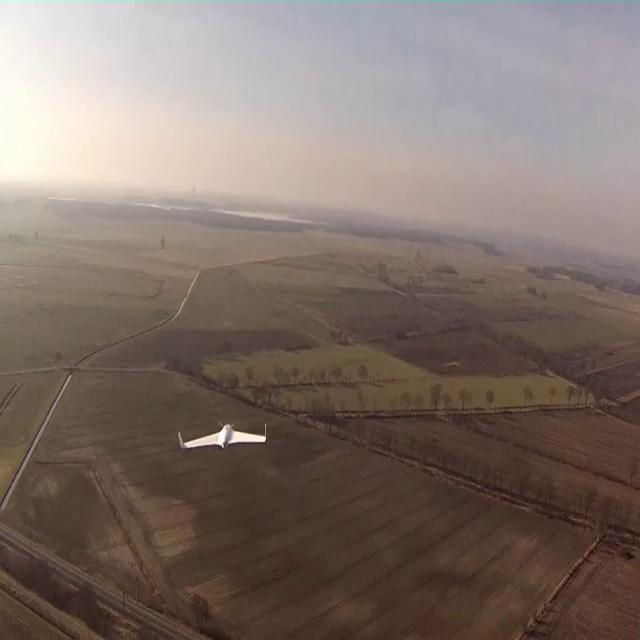iha: (208, 419, 236, 451)
